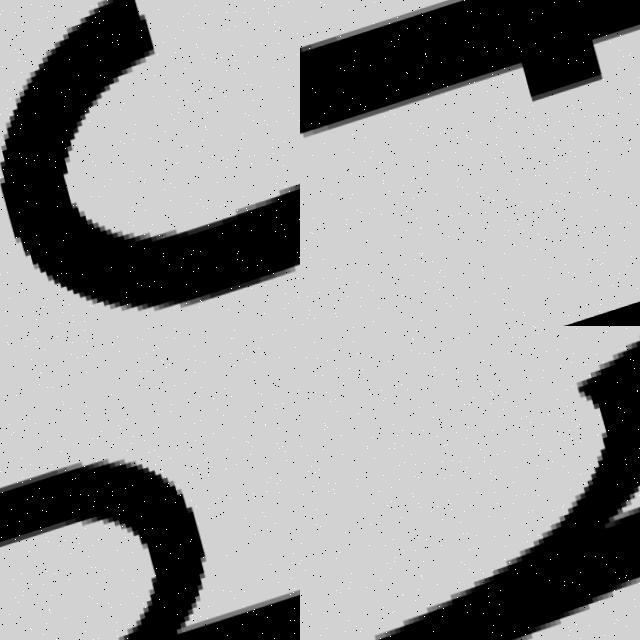C: (0, 0, 300, 313)
H: (0, 389, 300, 640)
R: (300, 326, 640, 640)
T: (300, 0, 640, 207)
